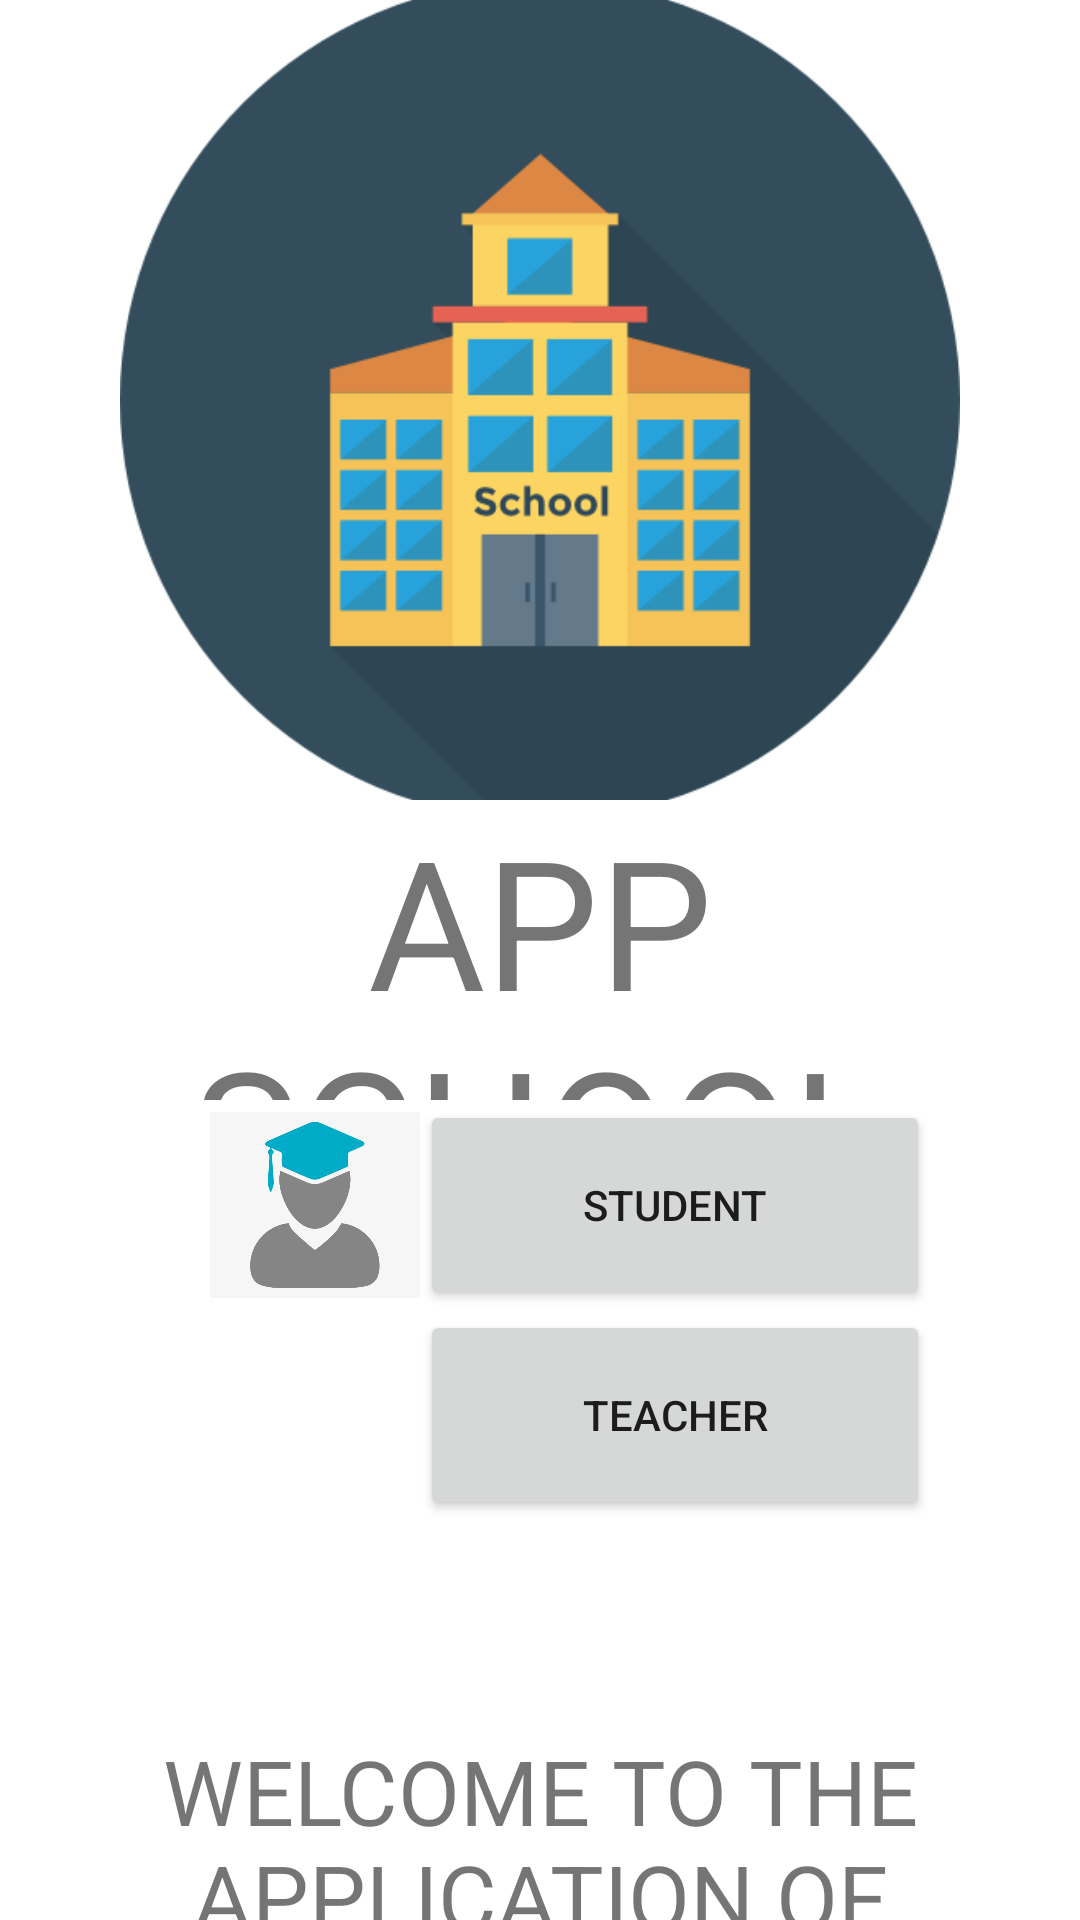

Named icons in this screenshot (1080x1920) and their centers, point (x, y):
estudiante: point (315, 1205)
